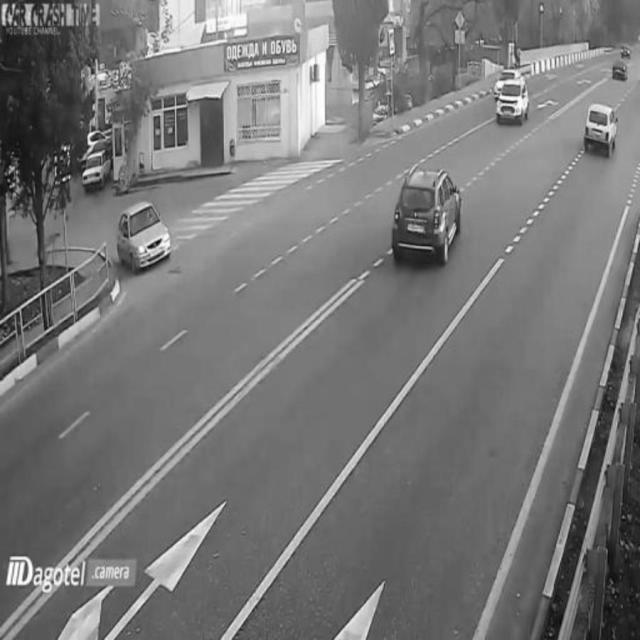vehicle: (391, 166, 462, 269), (117, 200, 173, 276), (493, 69, 531, 130), (584, 98, 620, 156), (79, 148, 109, 199), (609, 56, 631, 83)
